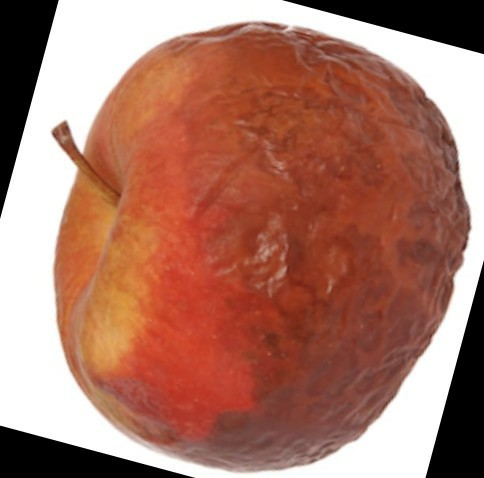rotten_apple: (55, 21, 473, 474)
